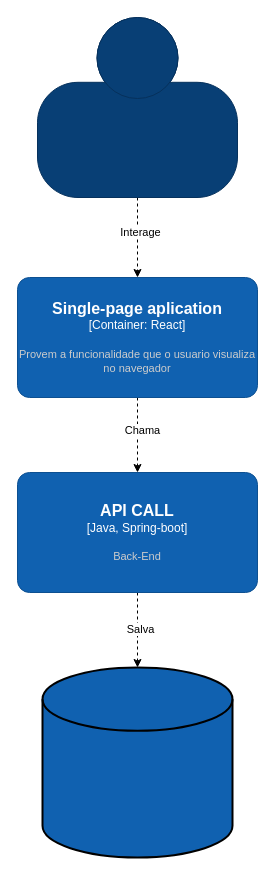
The diagram is 275 pixels wide and 876 high, and some of its shapes have lost their labels. Each missing label, with the centre of its shape:
"Banco de dados [SQL]" goes at (137,762).
"Usuario [Person]" goes at (137,107).
